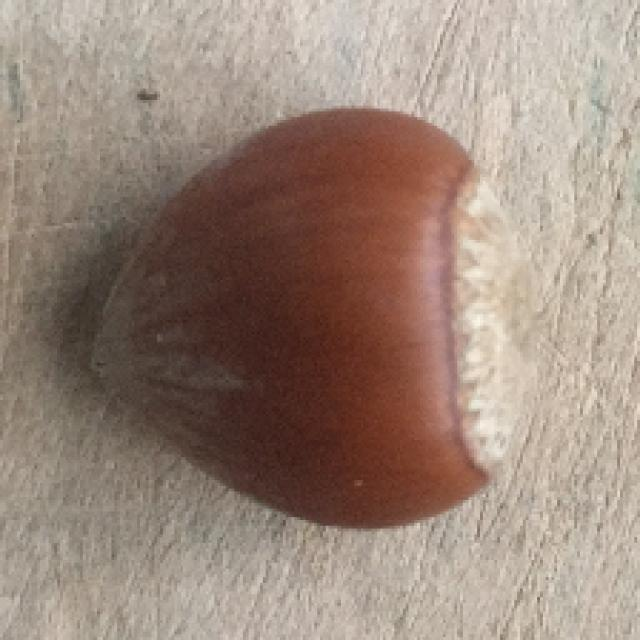QualityHazelnut: (88, 108, 537, 529)
